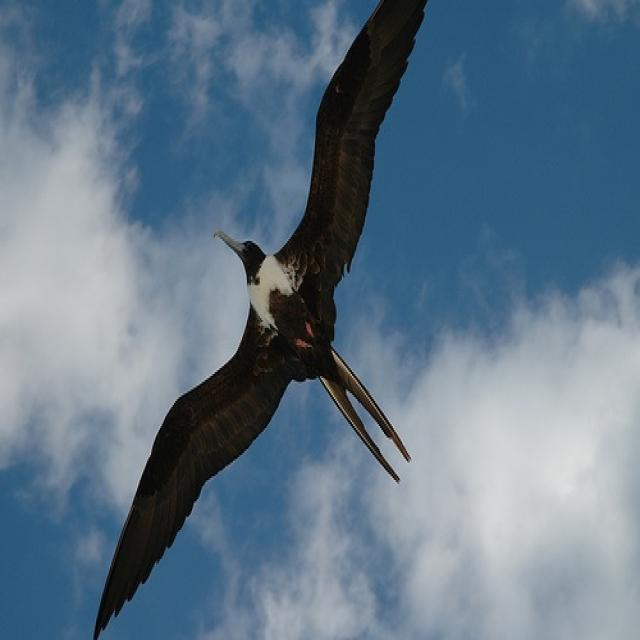bird: (92, 1, 428, 637)
